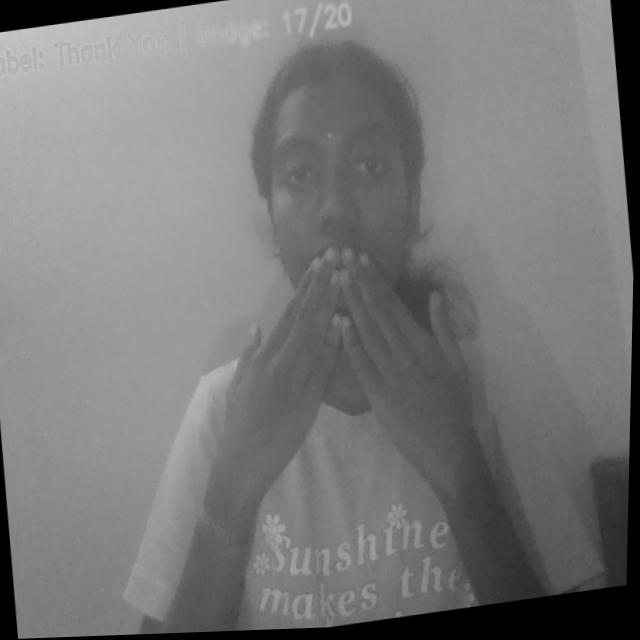Thank You: (171, 222, 518, 558)
